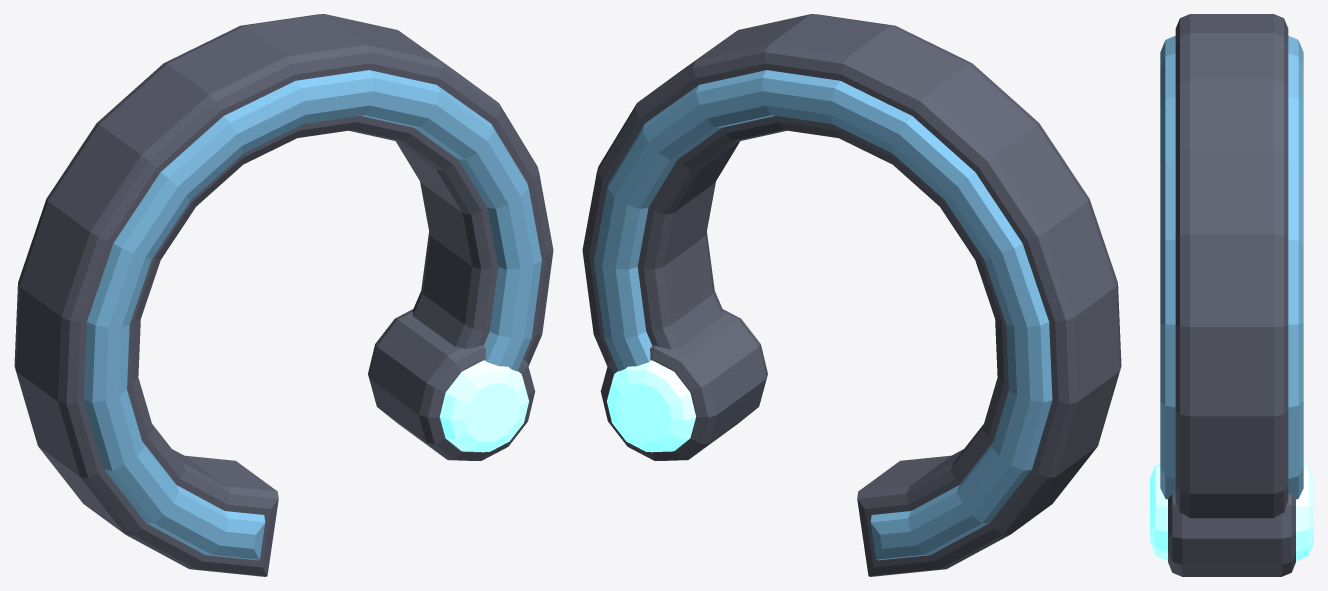
Rendered from game-ui-icon-library-loading-ring-d6589f1c__19058.glb.
The picture shows the model from 3 angles, left to right: view 1: azimuth 30°, elevation 25°; view 2: azimuth 150°, elevation 25°; view 3: azimuth 270°, elevation 25°; orthographic projection.
Parts seen in each view (by area): view 1: loading-ring; view 2: loading-ring; view 3: loading-ring.
Part boxes in pixels (x1=…): loading-ring: x1=14, y1=14, x2=553, y2=576; loading-ring: x1=582, y1=14, x2=1121, y2=576; loading-ring: x1=1150, y1=14, x2=1313, y2=576.
Size of the model in its own units: 0.9436 by 0.94 by 0.2706.
